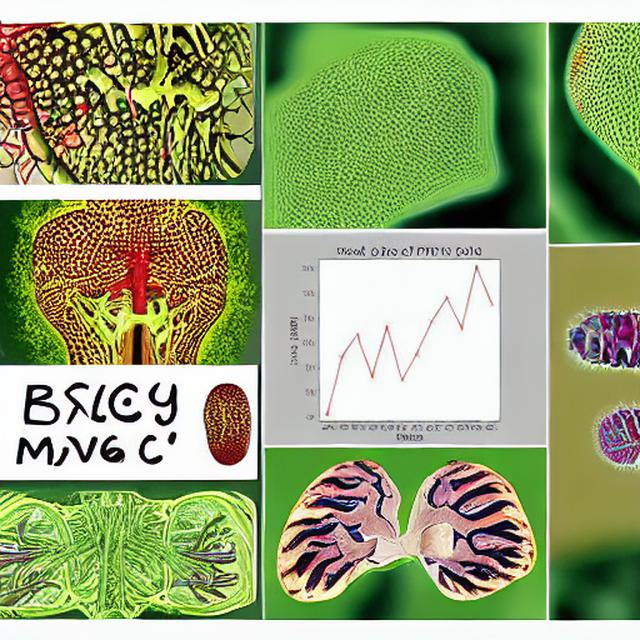Graph: (266, 234, 546, 444)
